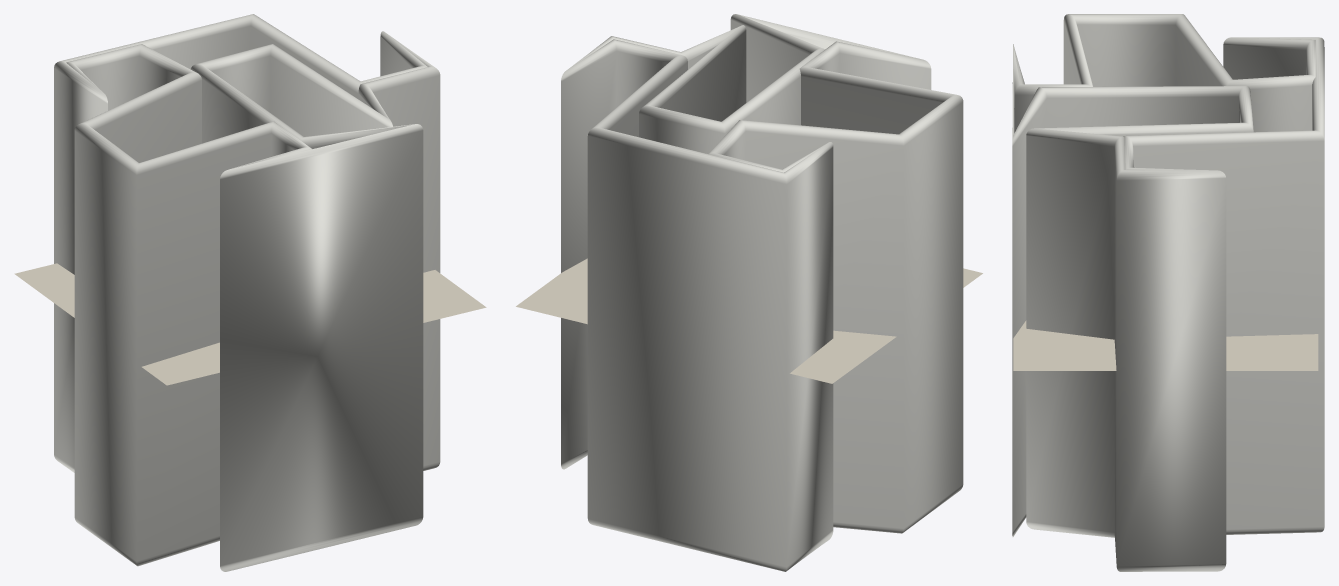
3 views of the same model, side by side, from view 1: azimuth 30°, elevation 25°; view 2: azimuth 150°, elevation 25°; view 3: azimuth 270°, elevation 25° (orthographic).
Parts seen in each view (by area): view 1: wall_0, Floor; view 2: wall_0, Floor; view 3: wall_0, Floor.
Boxes of the visible parts, x1,y1,x2,y2 form: wall_0: (54, 14, 440, 571); Floor: (14, 263, 486, 385); wall_0: (561, 14, 963, 571); Floor: (516, 258, 982, 383); wall_0: (1012, 14, 1324, 571); Floor: (1013, 320, 1318, 370).
Size of the model in its own units: 5.38 by 6.24 by 4.4.
